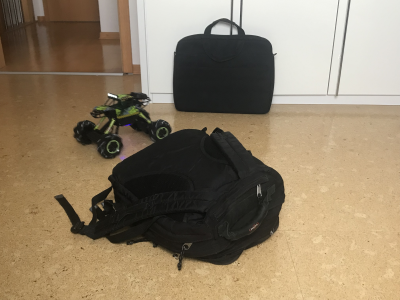remote control car: (72, 88, 173, 159)
